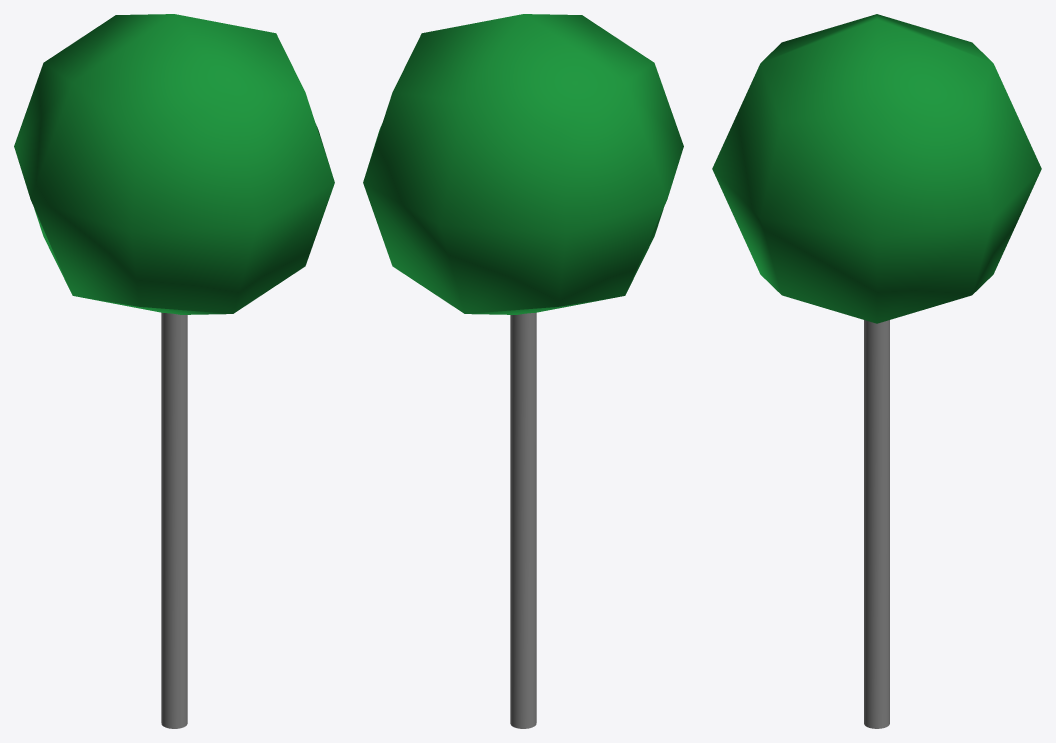
The model's file is Lollipops.glb.
3 views of the same model, side by side, from view 1: azimuth 30°, elevation 25°; view 2: azimuth 150°, elevation 25°; view 3: azimuth 270°, elevation 25° (orthographic).
Parts seen in each view (by area): view 1: Lollipop, Cylinder; view 2: Lollipop, Cylinder; view 3: Lollipop, Cylinder.
Boxes of the visible parts, left/top/right/bottom form: Lollipop: left=14, top=14, right=334, bottom=314; Cylinder: left=161, top=312, right=187, bottom=728; Lollipop: left=363, top=14, right=683, bottom=314; Cylinder: left=510, top=312, right=536, bottom=728; Lollipop: left=712, top=14, right=1041, bottom=323; Cylinder: left=864, top=320, right=889, bottom=728.
Size of the model in its own units: 0.0885 by 0.2085 by 0.0885.
